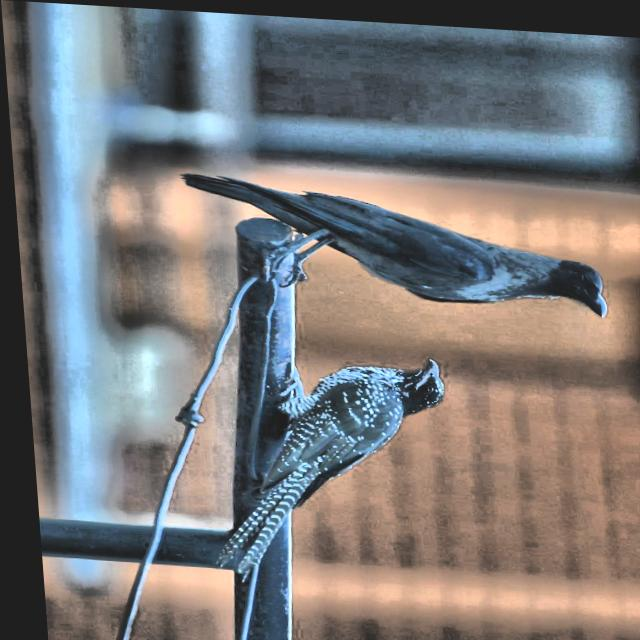crow: (168, 340, 489, 609), (198, 172, 618, 315)
